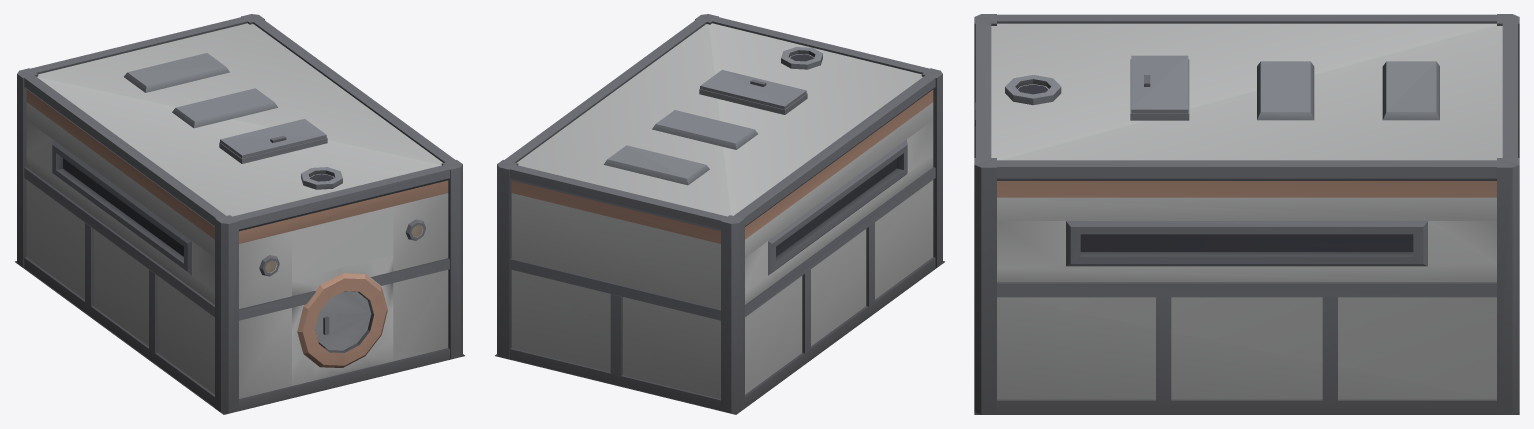
The model's file is depot.glb.
3 views of the same model, side by side, from view 1: azimuth 30°, elevation 25°; view 2: azimuth 150°, elevation 25°; view 3: azimuth 270°, elevation 25° (orthographic). The views are drawn at different scales.
Visible parts, largest first — view 1: depot; view 2: depot; view 3: depot.
Part boxes in pixels (x1,y1,x2,y2): depot: (15, 14, 464, 414); depot: (495, 14, 944, 414); depot: (974, 14, 1519, 414).
Bounding box in the file's own units: 10.4 × 8.16 × 15.6.
